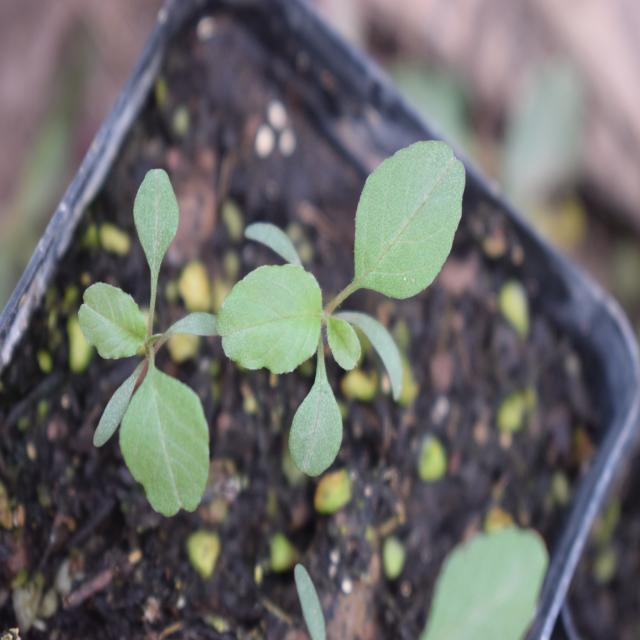pigweed: (225, 117, 468, 472), (74, 168, 222, 522)
